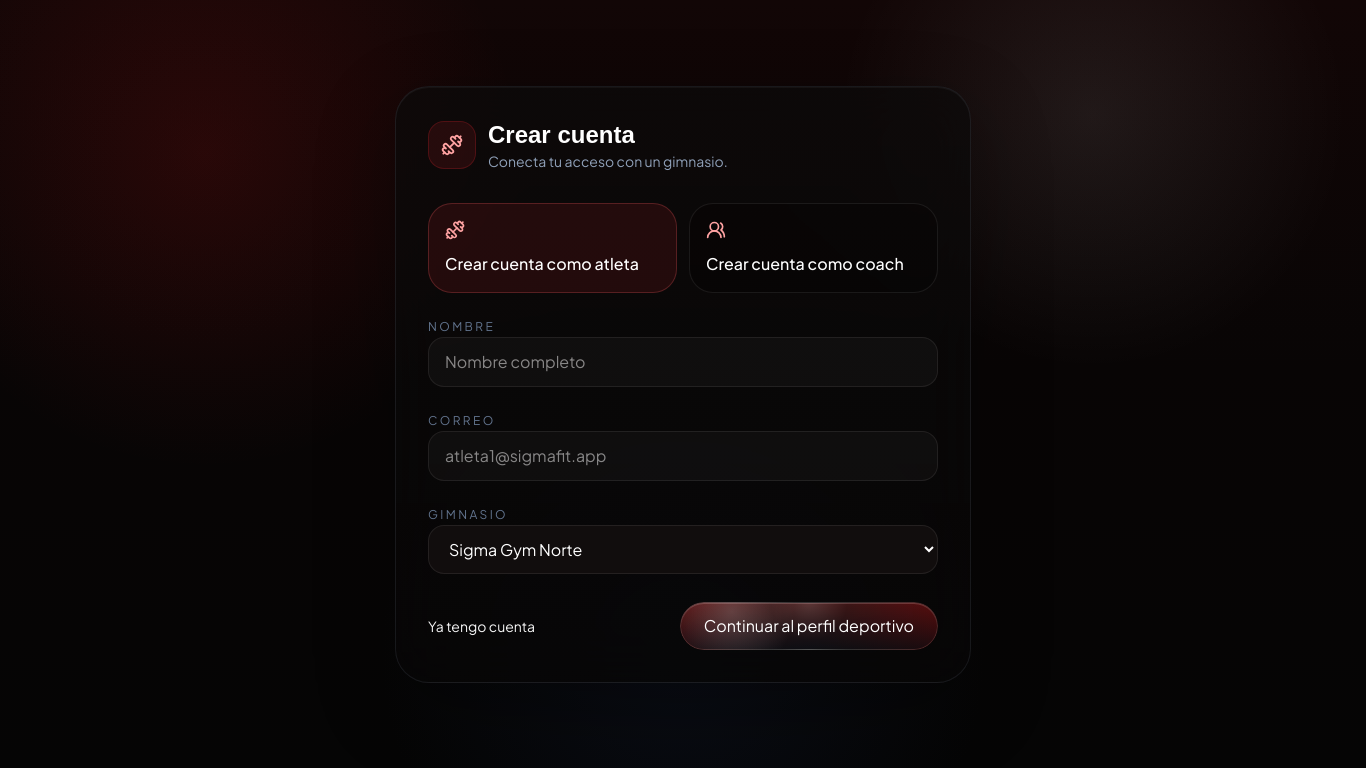
Scenario: SigmaFit product polish › signup requires a gym for athletes and exposes the coach gym field
The image size is (1366, 768).
Select "Selecciona un gimnasio" in the dropdown labelled "Gimnasio" at point(683, 549), box left=428, top=524, right=938, bottom=574
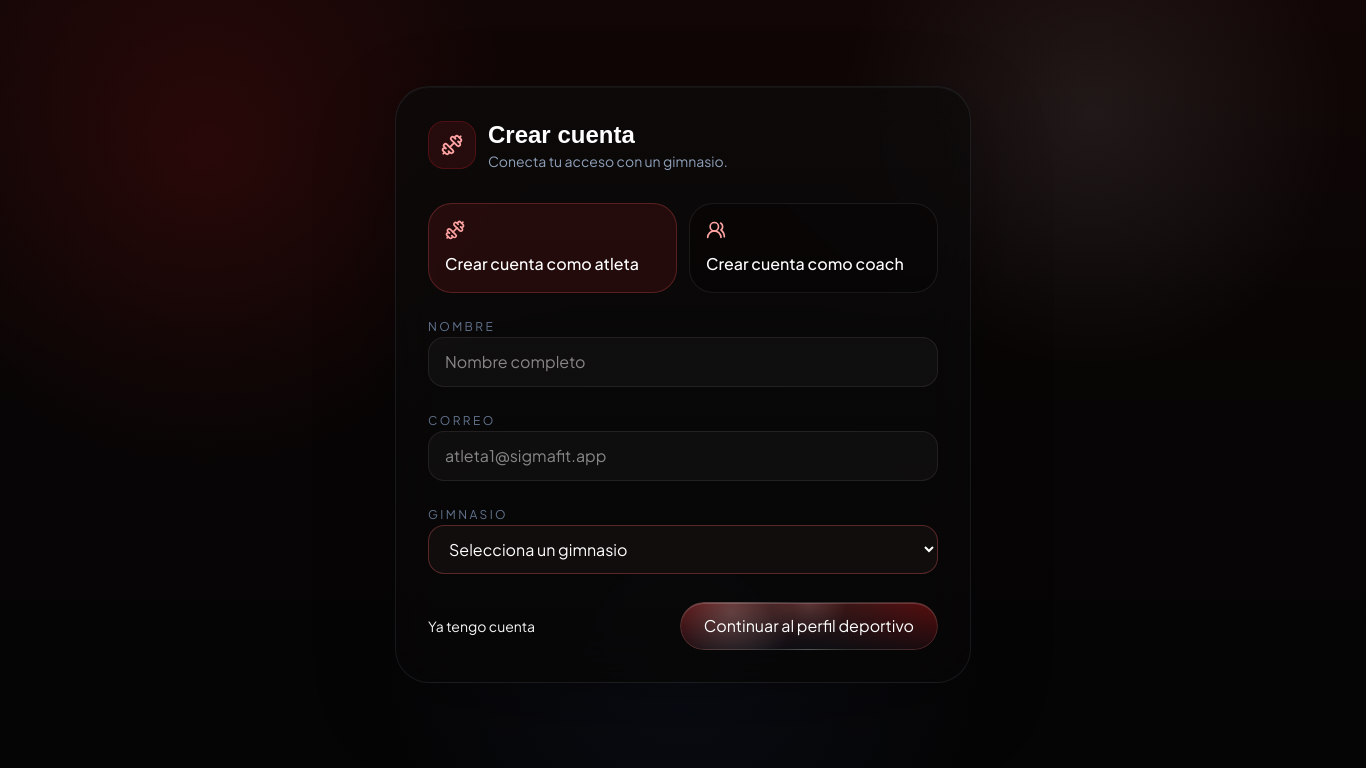
Type "Atleta Nuevo" into the field with placeholder "Nombre completo" at point(683, 362), box left=428, top=336, right=938, bottom=386
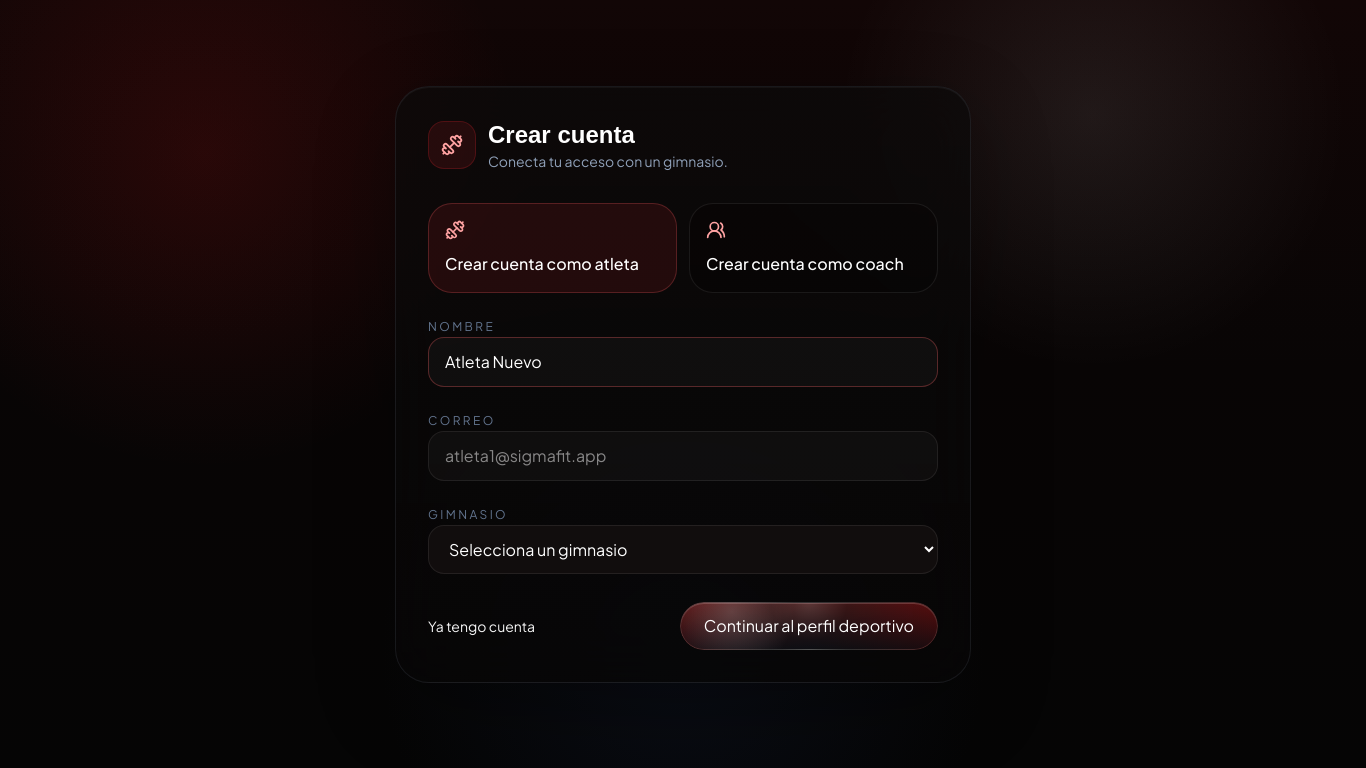
Type "nuevo@sigmafit.app" into the field with placeholder "atleta1@sigmafit.app" at point(683, 456), box left=428, top=430, right=938, bottom=480
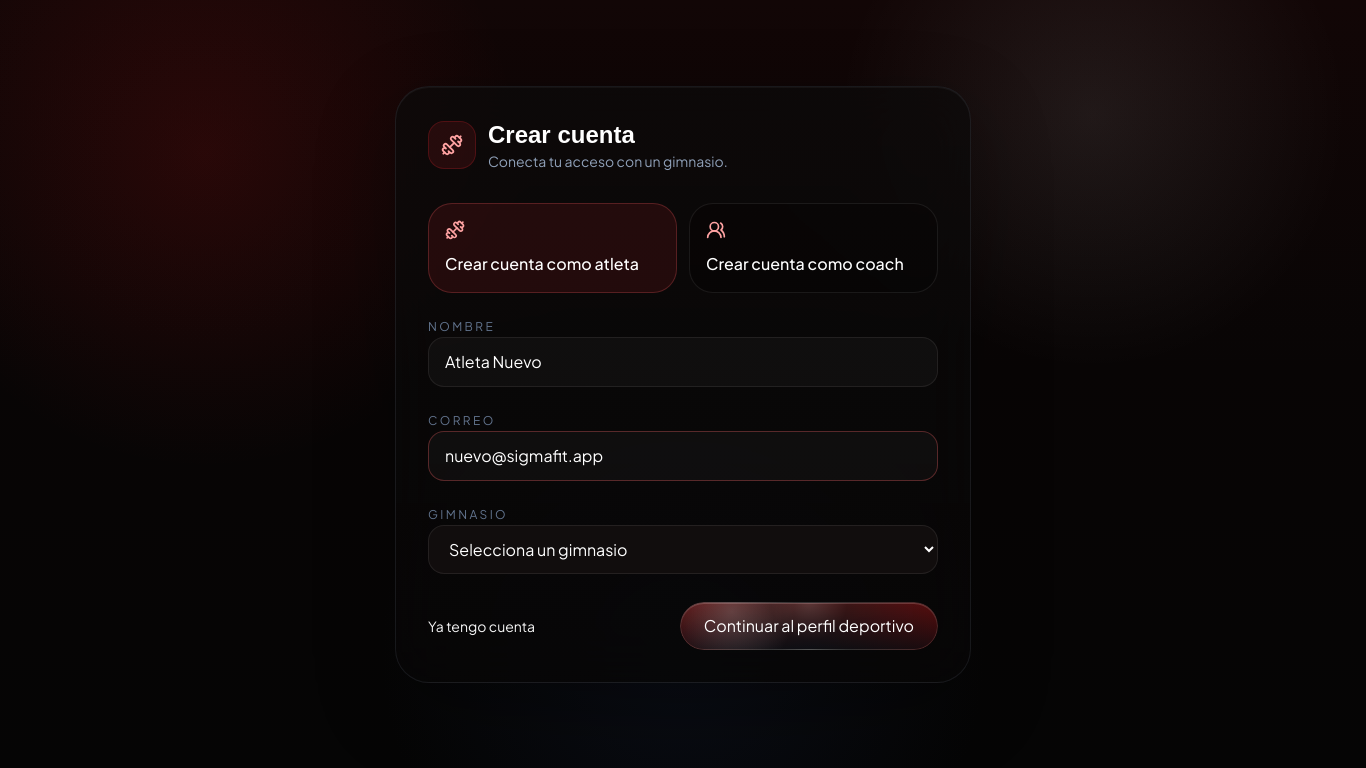
Click the button "Continuar al perfil deportivo" at point(809, 626), box left=680, top=602, right=938, bottom=650
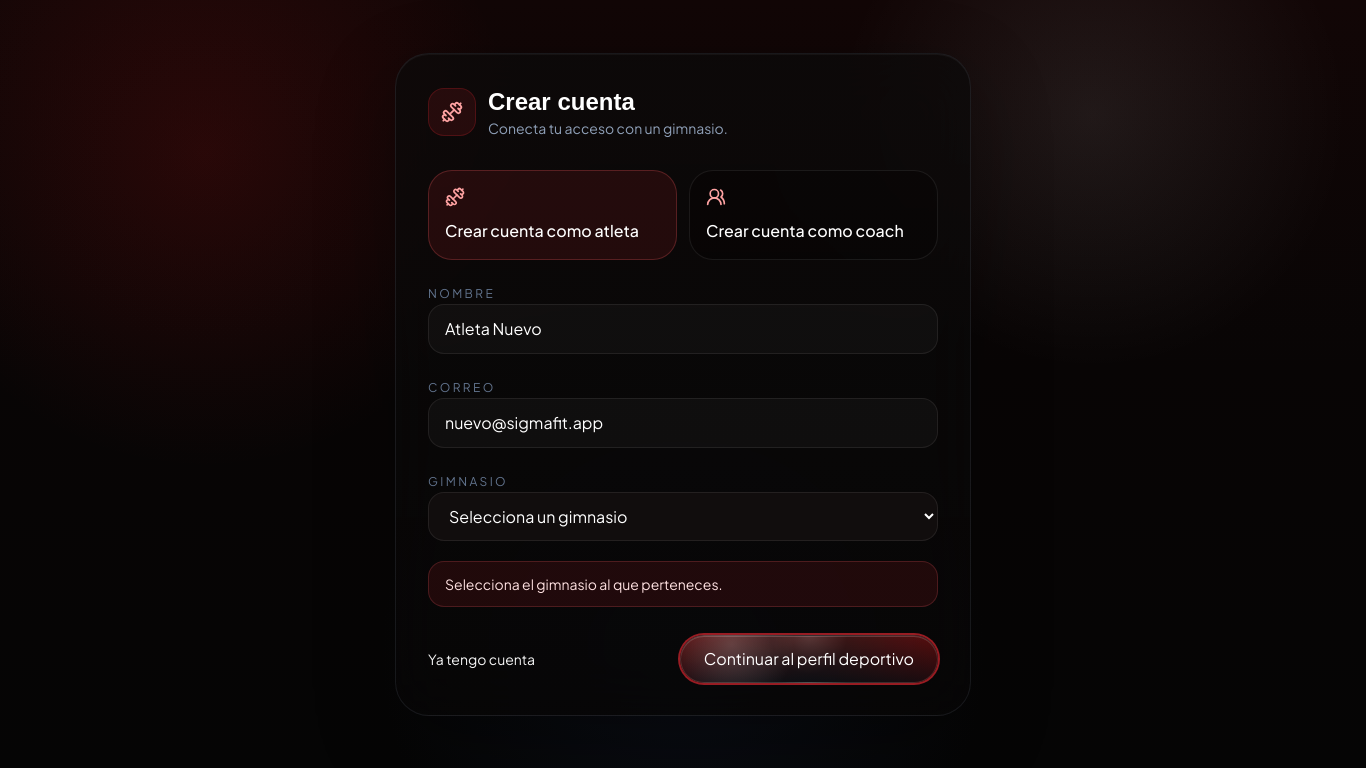
Expected: the text "Selecciona el gimnasio al que perteneces." is shown, left=428, top=560, right=938, bottom=606
Click the button "Crear cuenta como coach" at point(814, 214), box left=689, top=170, right=938, bottom=260
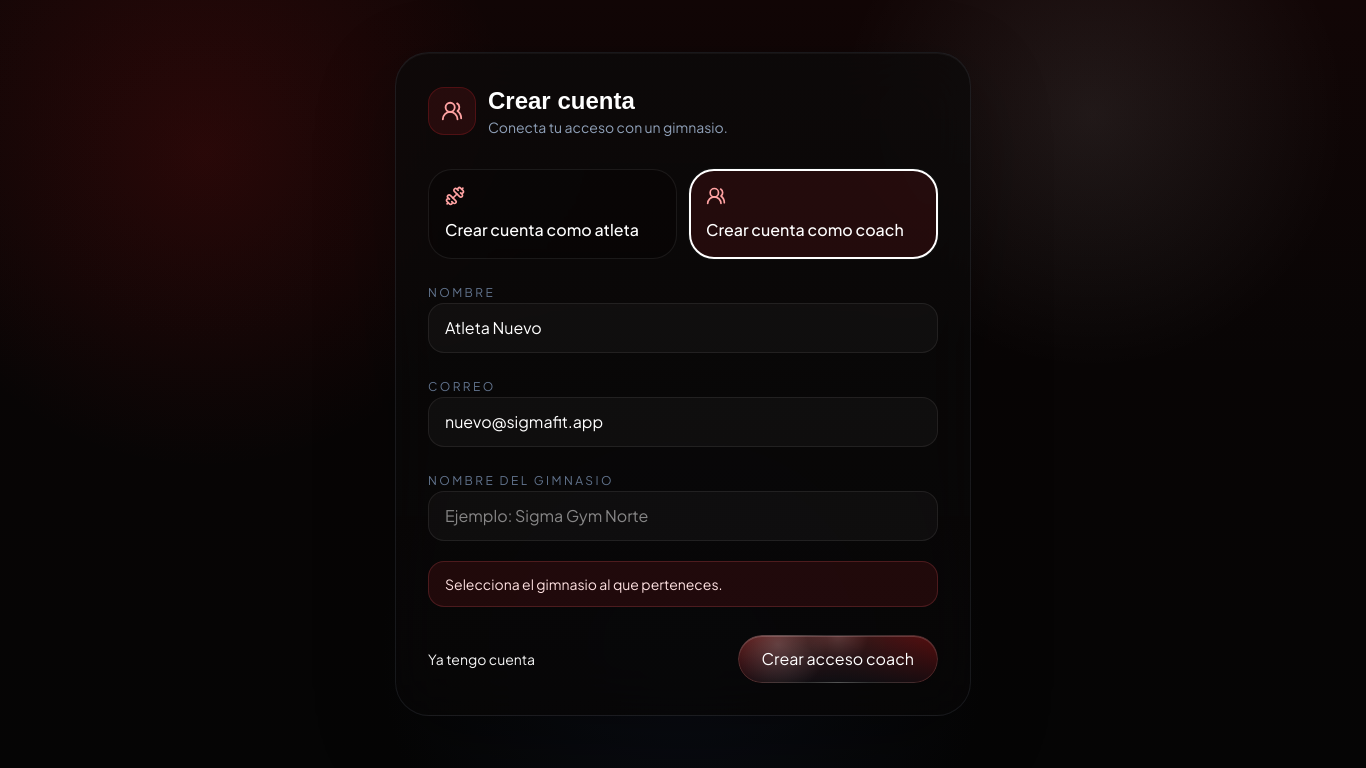
Expected: the field labelled "Nombre del gimnasio" is shown, left=428, top=491, right=938, bottom=541
